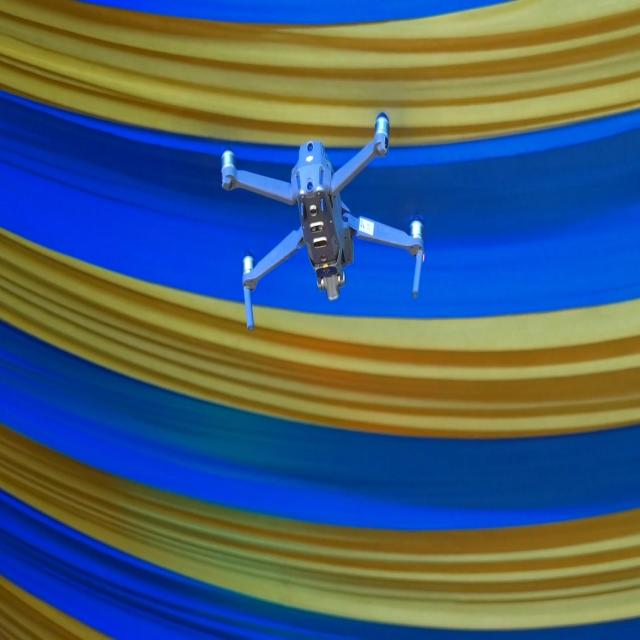Drone: (221, 114, 425, 334)
